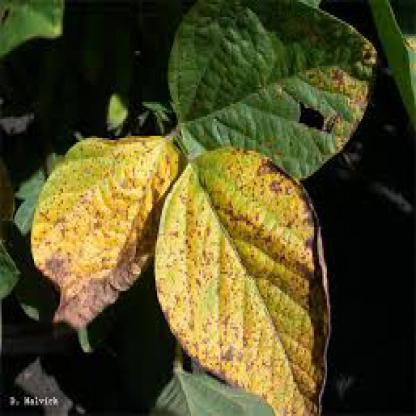Tomato Septoria leaf spot: (157, 151, 348, 412), (167, 4, 394, 191), (29, 125, 183, 333)
